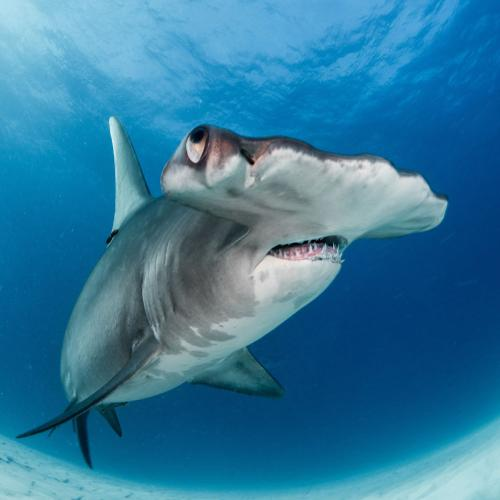shark-endangered: (18, 116, 449, 472)
